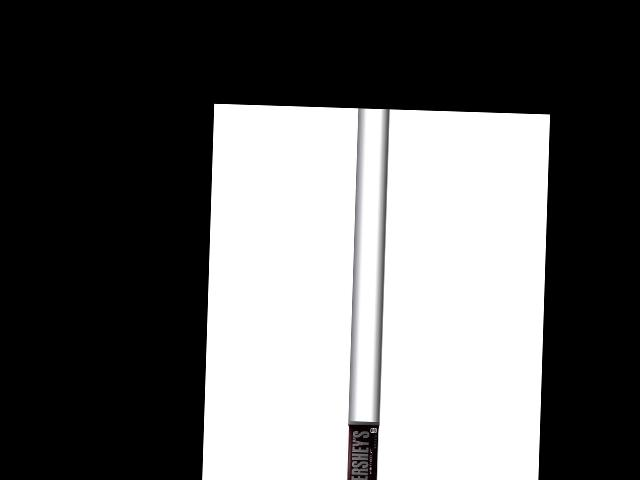chocolate: (347, 421, 382, 480)
